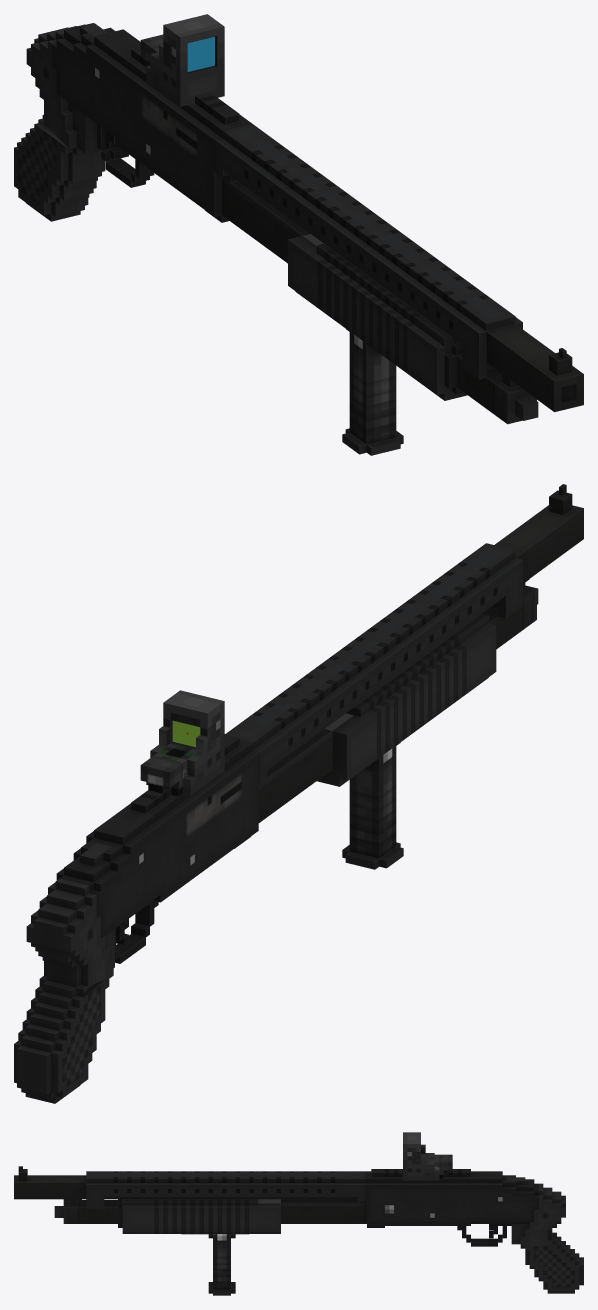
File: RD_MOSSBERG500.glb
3 views of the same model, one above another, from view 1: azimuth 30°, elevation 25°; view 2: azimuth 150°, elevation 25°; view 3: azimuth 270°, elevation 25° (orthographic). The views are drawn at different scales.
Visible parts, largest first — view 1: MOSSBERG500, MOSSBERG500_FOREND, SCOPE_HOLOSUN, GRIP1, SCOPE_AIMPOINT; view 2: MOSSBERG500, MOSSBERG500_FOREND, GRIP1, SCOPE_HOLOSUN, SCOPE_AIMPOINT; view 3: MOSSBERG500, MOSSBERG500_FOREND, SCOPE_HOLOSUN, GRIP1, SCOPE_AIMPOINT.
Part boxes in pixels (left/top/right/bottom): MOSSBERG500: left=14, top=23, right=583, bottom=424; MOSSBERG500_FOREND: left=288, top=234, right=467, bottom=400; SCOPE_HOLOSUN: left=146, top=14, right=224, bottom=106; GRIP1: left=342, top=329, right=403, bottom=455; SCOPE_AIMPOINT: left=140, top=34, right=171, bottom=69; MOSSBERG500: left=14, top=484, right=583, bottom=1103; MOSSBERG500_FOREND: left=317, top=614, right=496, bottom=786; GRIP1: left=342, top=742, right=403, bottom=869; SCOPE_HOLOSUN: left=146, top=690, right=224, bottom=795; SCOPE_AIMPOINT: left=140, top=712, right=215, bottom=796; MOSSBERG500: left=14, top=1166, right=583, bottom=1293; MOSSBERG500_FOREND: left=118, top=1199, right=280, bottom=1233; SCOPE_HOLOSUN: left=403, top=1132, right=439, bottom=1180; GRIP1: left=181, top=1234, right=248, bottom=1295; SCOPE_AIMPOINT: left=412, top=1152, right=452, bottom=1178.
Size of the model in its own units: 0.0787 by 0.3642 by 1.24.
6 materials, 6 textured.
